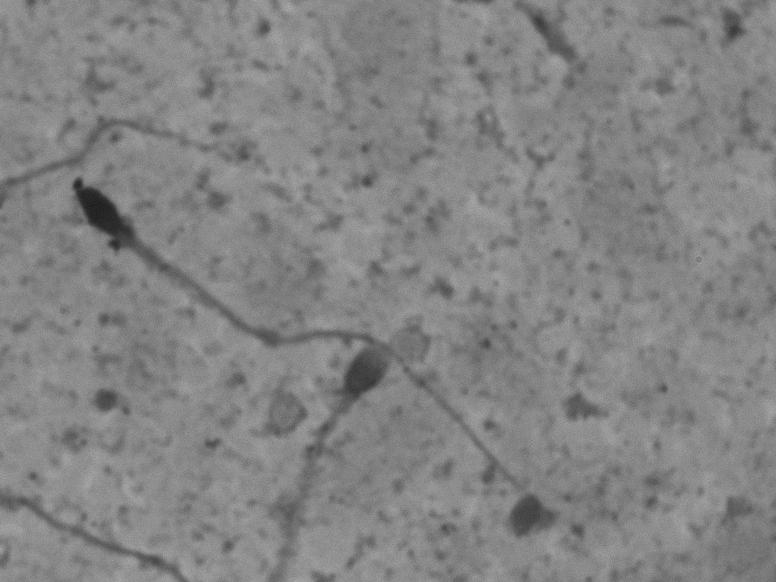Abnormal: (57, 165, 568, 522)
